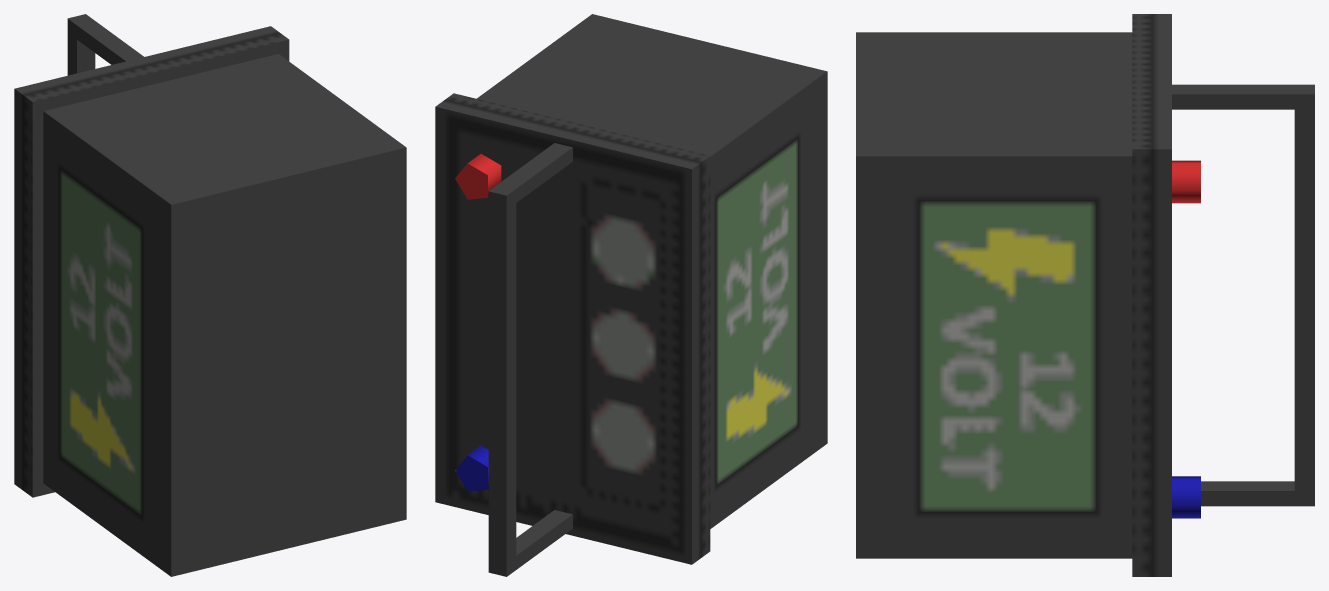
Rendered from CarBattery_Hand.fbx.
3 views of the same model, side by side, from view 1: azimuth 30°, elevation 25°; view 2: azimuth 150°, elevation 25°; view 3: azimuth 270°, elevation 25° (orthographic). The views are drawn at different scales.
Parts seen in each view (by area): view 1: CarBattery; view 2: CarBattery; view 3: CarBattery.
Part boxes in pixels (x1,y1,x2,y2): CarBattery: (14, 14, 406, 576); CarBattery: (435, 14, 827, 576); CarBattery: (856, 14, 1314, 576).
Size of the model in its own units: 0.1279 by 0.1884 by 0.1833.
